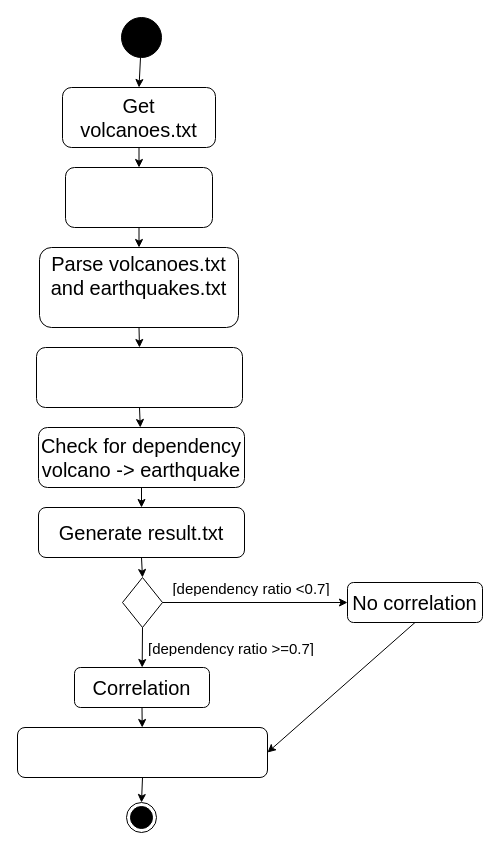
This 500x850 diagram has some shape labels left out. Here are the shapes that lost their labels. From the top down, the box of each, then its label:
(64, 166, 212, 228): Get earthquakes.txt
(36, 346, 242, 408): Choose max volcano radius
(16, 726, 268, 778): Start GUI and visualize results using Google Maps
